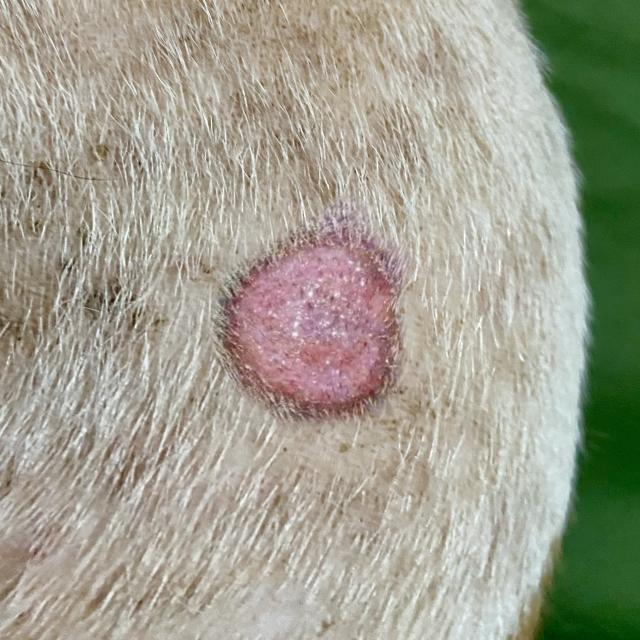ringworm: (199, 207, 435, 451)
